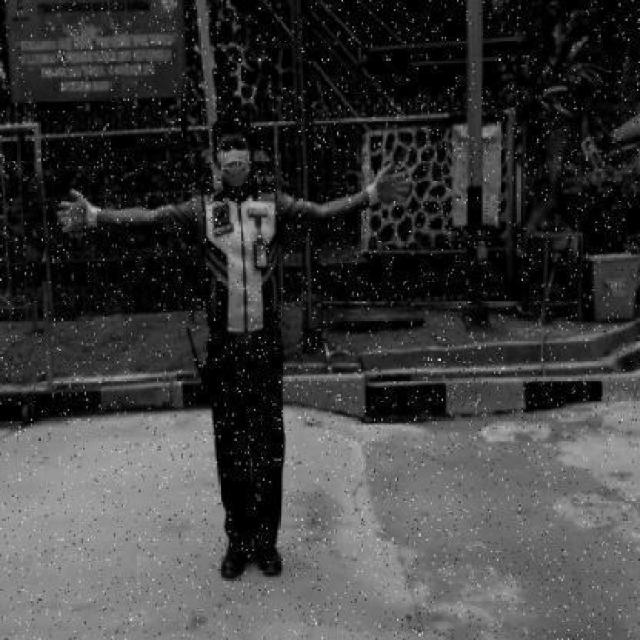Boots: (218, 538, 254, 580), (252, 543, 285, 579)
Gloves: (365, 158, 412, 210), (53, 186, 102, 234)
Mask: (218, 152, 250, 186)
